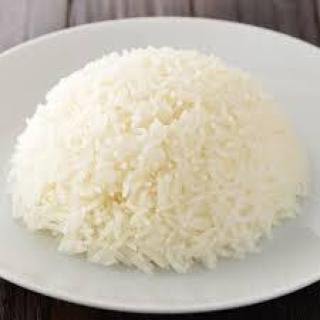Nasi: (5, 44, 307, 274)
